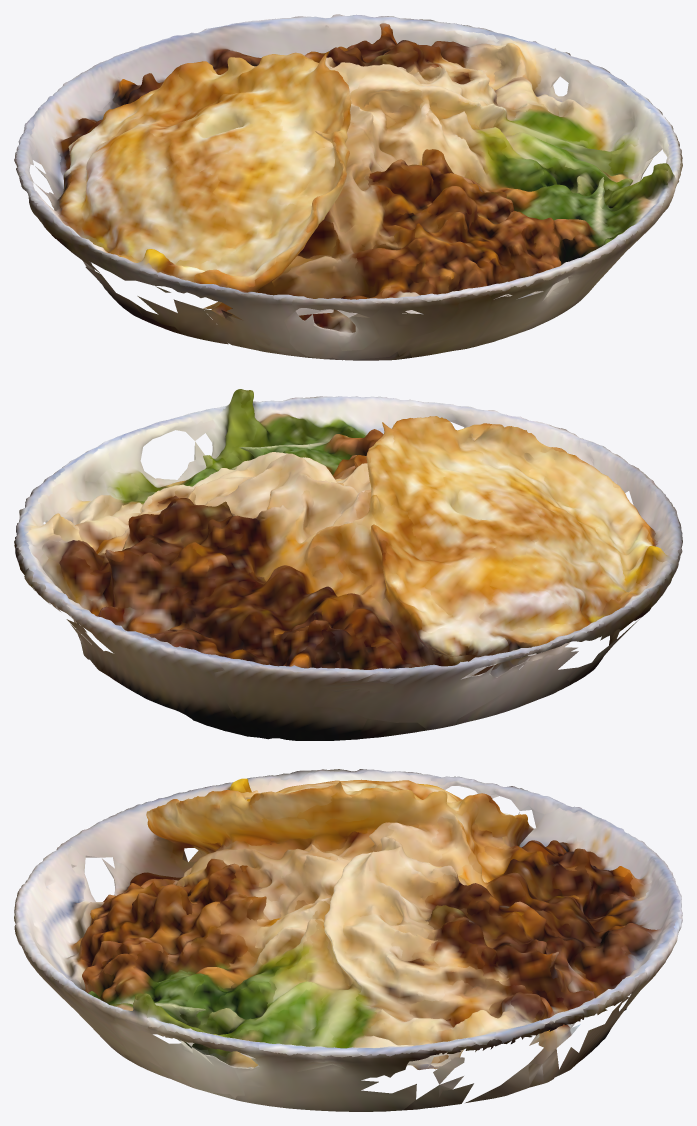
Rendered from noodles_with_soybean_paste_scaniverse_lidar.glb.
The picture shows the model from 3 angles, top to bottom: view 1: azimuth 30°, elevation 25°; view 2: azimuth 150°, elevation 25°; view 3: azimuth 270°, elevation 25°; orthographic projection.
Visible parts, largest first — view 1: mesh_main_0 (×2); view 2: mesh_main_0 (×2); view 3: mesh_main_0 (×2).
Boxes of the visible parts, bbox=[...] form: mesh_main_0 (×2): bbox=[14, 14, 682, 360]; mesh_main_0 (×2): bbox=[14, 389, 682, 740]; mesh_main_0 (×2): bbox=[14, 769, 682, 1111].
Size of the model in its own units: 0.2261 by 0.0762 by 0.2246.
Materials: 1 (1 with a texture image).
